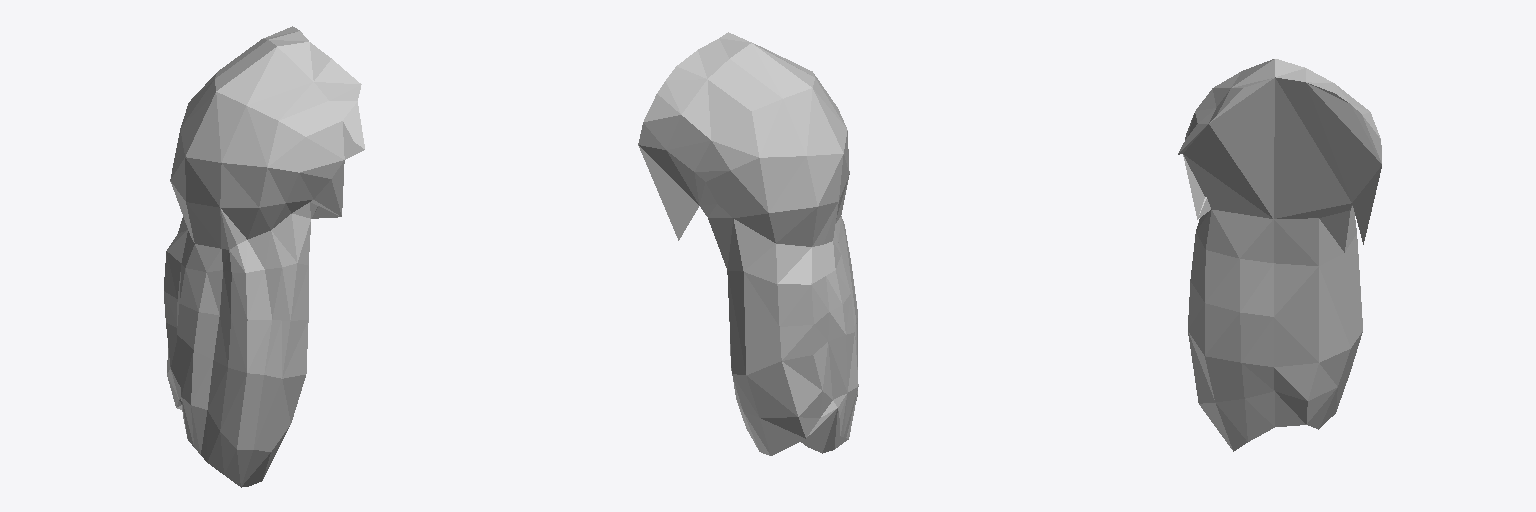
Rendered from rightshoulder.obj.
3 renders of one model, left to right at view 1: azimuth 30°, elevation 25°; view 2: azimuth 150°, elevation 25°; view 3: azimuth 270°, elevation 25°, orthographic.
Visible parts, largest first — view 1: cube1_copy16; view 2: cube1_copy16; view 3: cube1_copy16.
Part boxes in pixels (bbox=[...]): cube1_copy16: bbox=[164, 26, 364, 487]; cube1_copy16: bbox=[638, 32, 858, 455]; cube1_copy16: bbox=[1178, 59, 1381, 451].
Bounding box in the file's own units: 0.7678 × 1.93 × 0.8666.